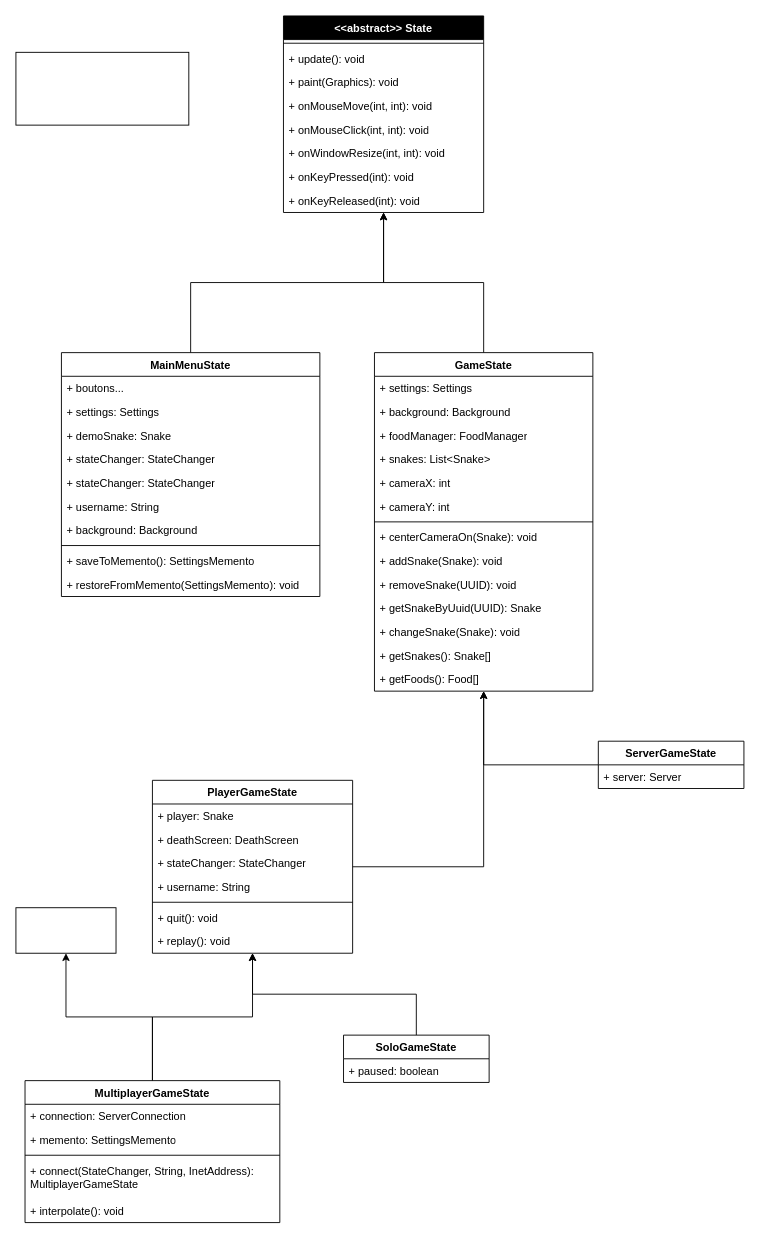
This 760x1241 diagram has some shape labels left out. Here are the shapes that lost their labels. From the top down, the centre of each, then its label:
(102,88): <<Interface>> StateChanger + setState(State): void
(65,930): «interface» SnakeListener
